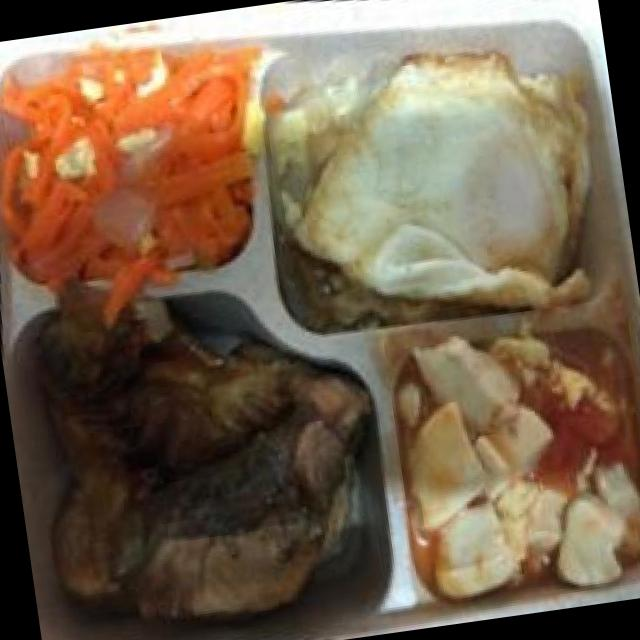carrot_eggs: (0, 26, 274, 303)
fried_eggs: (260, 16, 622, 350)
